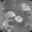people: (2, 19, 14, 29), (4, 11, 16, 18), (15, 16, 23, 23)
